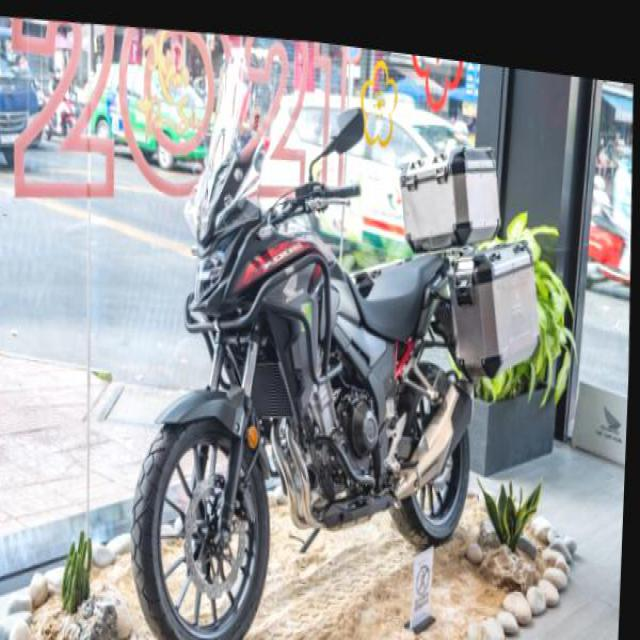CB500X: (118, 114, 496, 638)
